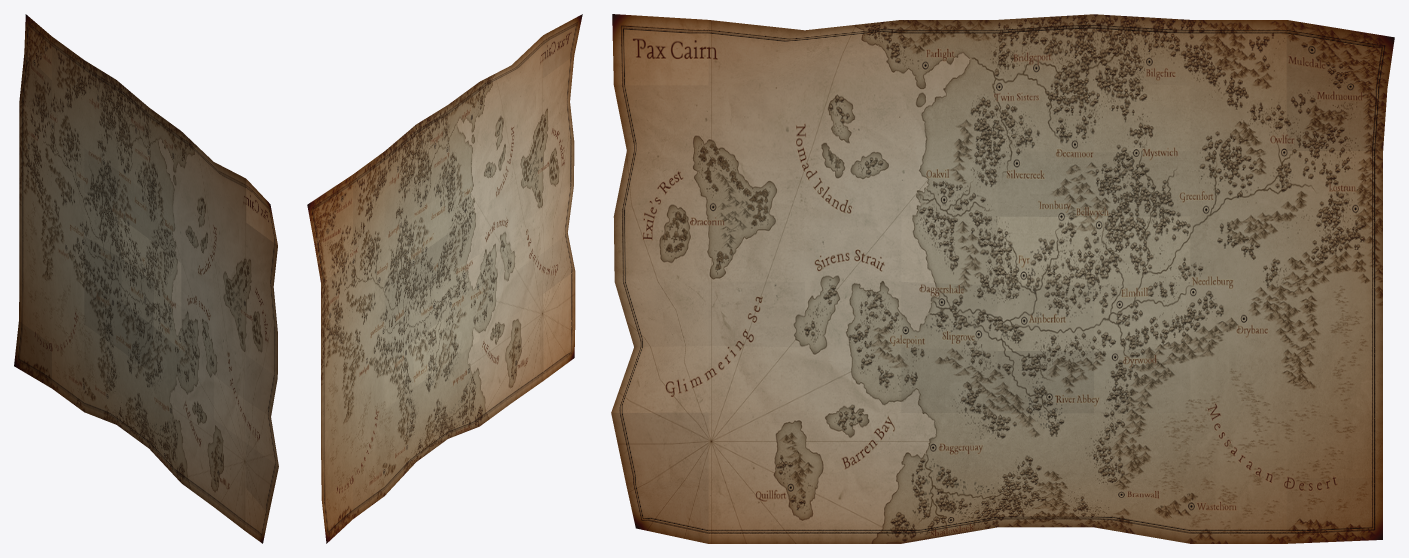
Rendered from map-transformed.glb.
3 renders of one model, left to right at view 1: azimuth 30°, elevation 25°; view 2: azimuth 150°, elevation 25°; view 3: azimuth 270°, elevation 25°, orthographic. The views are drawn at different scales.
Parts seen in each view (by area): view 1: Plane; view 2: Plane; view 3: Plane.
Part boxes in pixels (box(x1,y1,x2,y2)): Plane: box(14, 14, 278, 543); Plane: box(307, 14, 582, 543); Plane: box(611, 14, 1394, 543).
Bounding box in the file's own units: 0.8179 × 15.18 × 20.33.
1 material, 1 textured.
